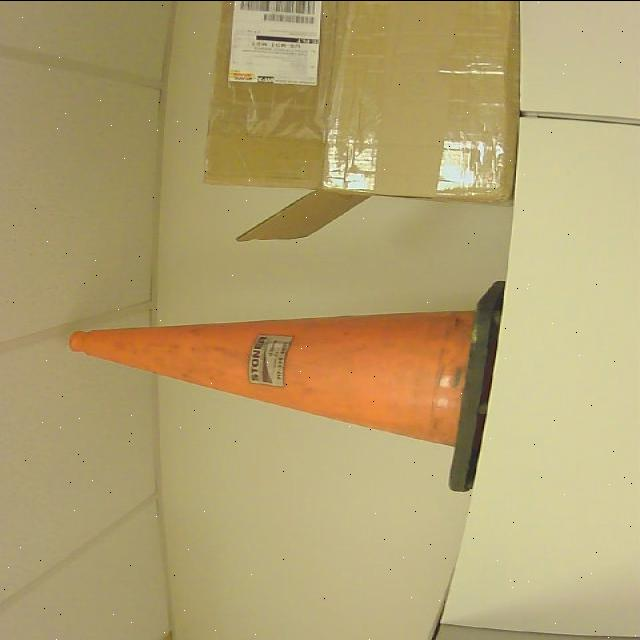traffic cone: (69, 281, 505, 493)
